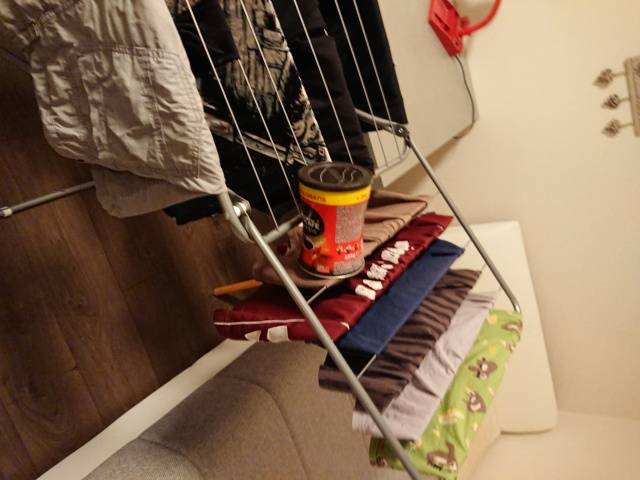Nescafe Classic 225g: (294, 158, 376, 281)
